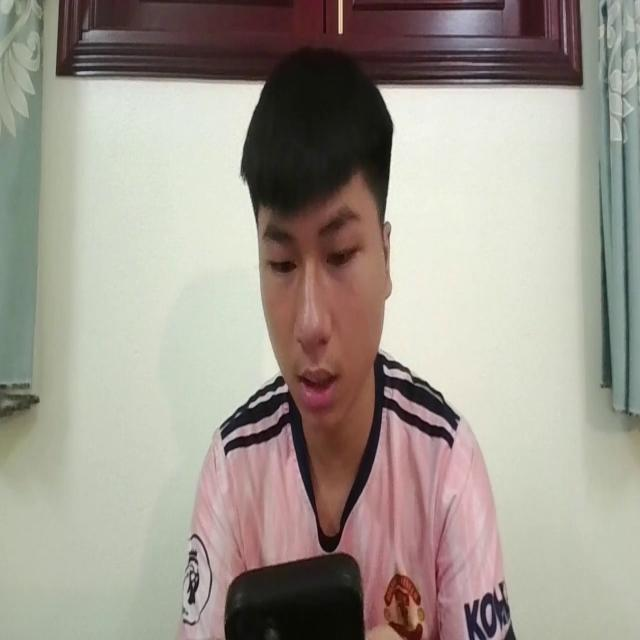phone: (223, 543, 365, 640)
student: (186, 41, 502, 640)
